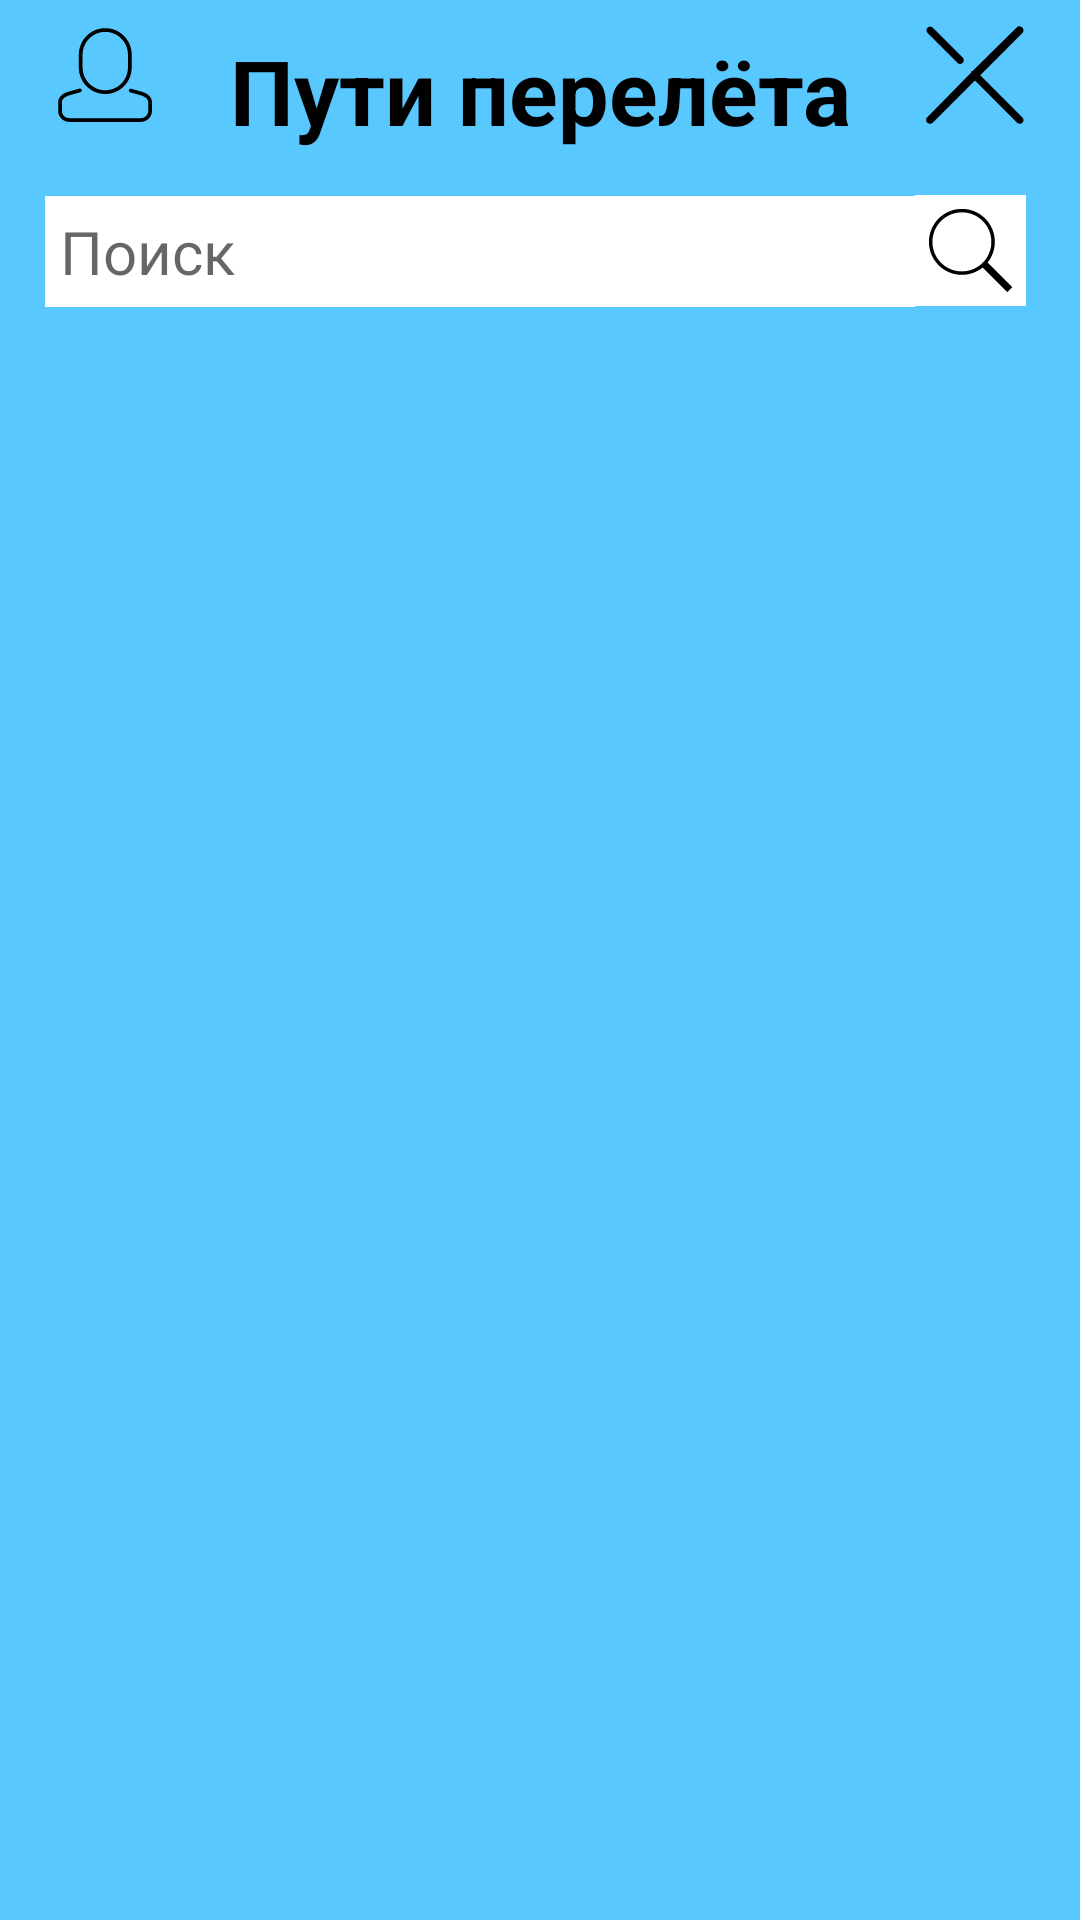

Icon click points for this 1080px×1920px phone screenshot, format (x,y):
close: (975,75)
profile: (105,75)
search: (970,250)
